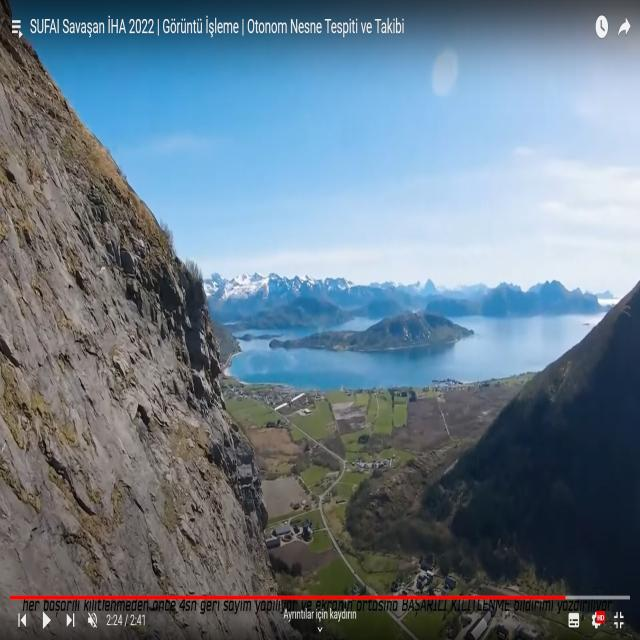iha: (273, 389, 308, 414)
